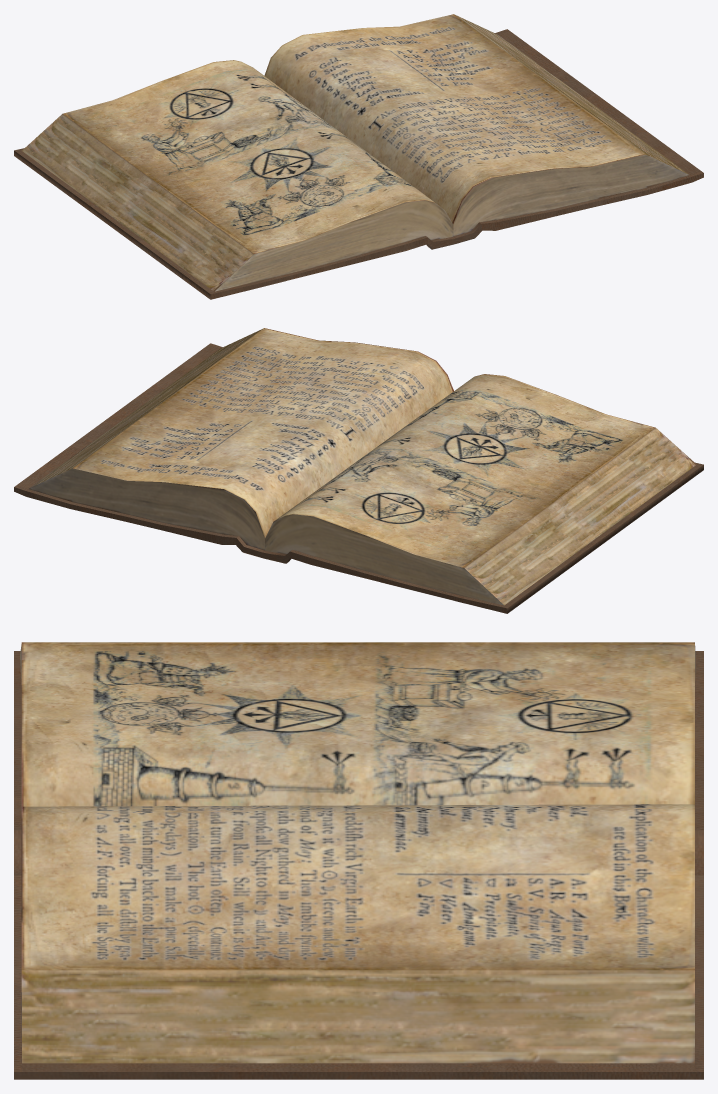
File: OpenBook.fbx
3 views of the same model, one above another, from view 1: azimuth 30°, elevation 25°; view 2: azimuth 150°, elevation 25°; view 3: azimuth 270°, elevation 25° (orthographic). The views are drawn at different scales.
Visible parts, largest first — view 1: OpenBook; view 2: OpenBook; view 3: OpenBook.
Boxes of the visible parts, x1,y1,x2,y2 form: OpenBook: (14,14,703,299); OpenBook: (14,328,703,613); OpenBook: (14,642,703,1079).
Size of the model in its own units: 61.64 by 6.93 by 42.53.
